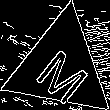M_NE: (28, 32, 93, 101)
